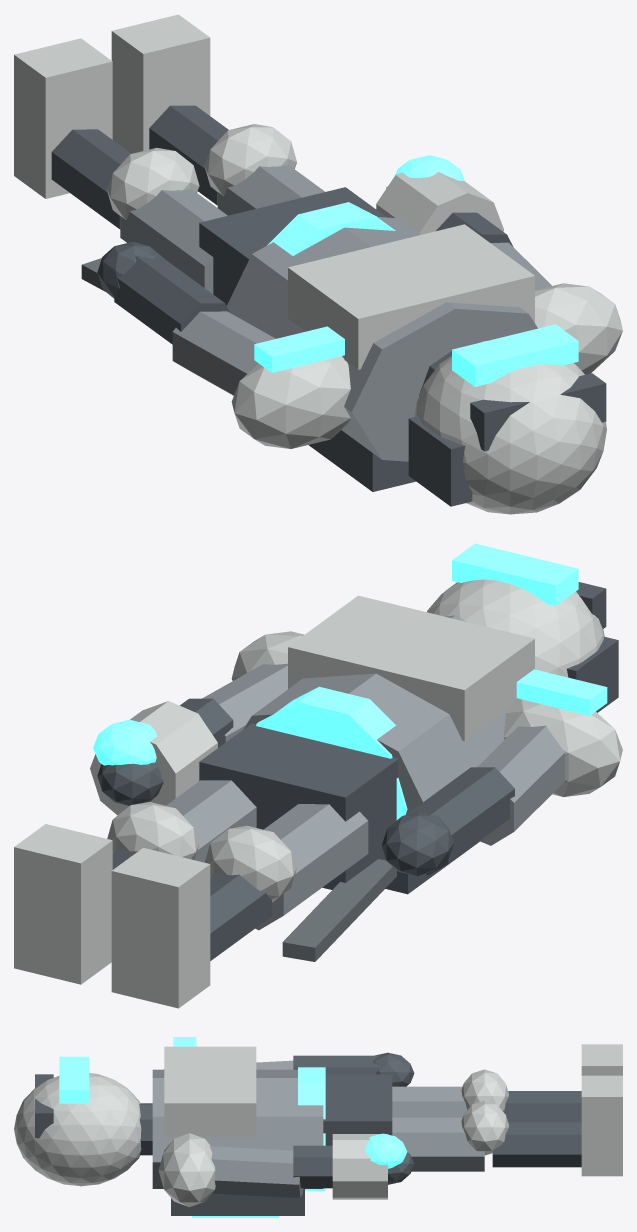
File: wayfarer-mara-m0-v2.glb
3 views of the same model, one above another, from view 1: azimuth 30°, elevation 25°; view 2: azimuth 150°, elevation 25°; view 3: azimuth 270°, elevation 25° (orthographic). The views are drawn at different scales.
Visible parts, largest first — view 1: Mara_CeramicRig, Mara_SuitBody, Mara_DarkRig, Mara_Helmet, Mara_ResonanceAccents, Mara_Visor, Mara_GauntletEmitter; view 2: Mara_CeramicRig, Mara_DarkRig, Mara_SuitBody, Mara_ResonanceAccents, Mara_Helmet, Mara_FabricTab, Mara_Visor, Mara_GauntletEmitter; view 3: Mara_CeramicRig, Mara_DarkRig, Mara_SuitBody, Mara_Helmet, Mara_ResonanceAccents, Mara_Visor, Mara_GauntletEmitter.
Boxes of the visible parts, <box> form: Mara_CeramicRig: <box>14,14,622,448</box>; Mara_SuitBody: <box>120,165,551,461</box>; Mara_DarkRig: <box>51,105,606,506</box>; Mara_Helmet: <box>414,340,606,514</box>; Mara_ResonanceAccents: <box>254,202,395,372</box>; Mara_Visor: <box>452,324,578,386</box>; Mara_GauntletEmitter: <box>395,155,464,180</box>; Mara_CeramicRig: <box>14,595,622,1008</box>; Mara_DarkRig: <box>97,582,618,960</box>; Mara_SuitBody: <box>166,615,564,930</box>; Mara_ResonanceAccents: <box>256,669,607,820</box>; Mara_Helmet: <box>427,579,604,677</box>; Mara_FabricTab: <box>282,859,396,961</box>; Mara_Visor: <box>452,543,578,606</box>; Mara_GauntletEmitter: <box>93,719,156,765</box>; Mara_CeramicRig: <box>158,1044,622,1207</box>; Mara_DarkRig: <box>35,1052,581,1215</box>; Mara_SuitBody: <box>152,1060,484,1197</box>; Mara_Helmet: <box>14,1073,141,1186</box>; Mara_ResonanceAccents: <box>173,1037,325,1217</box>; Mara_Visor: <box>59,1056,89,1103</box>; Mara_GauntletEmitter: <box>365,1133,407,1168</box>.
Size of the model in its own units: 1.26 by 0.63 by 2.64.
